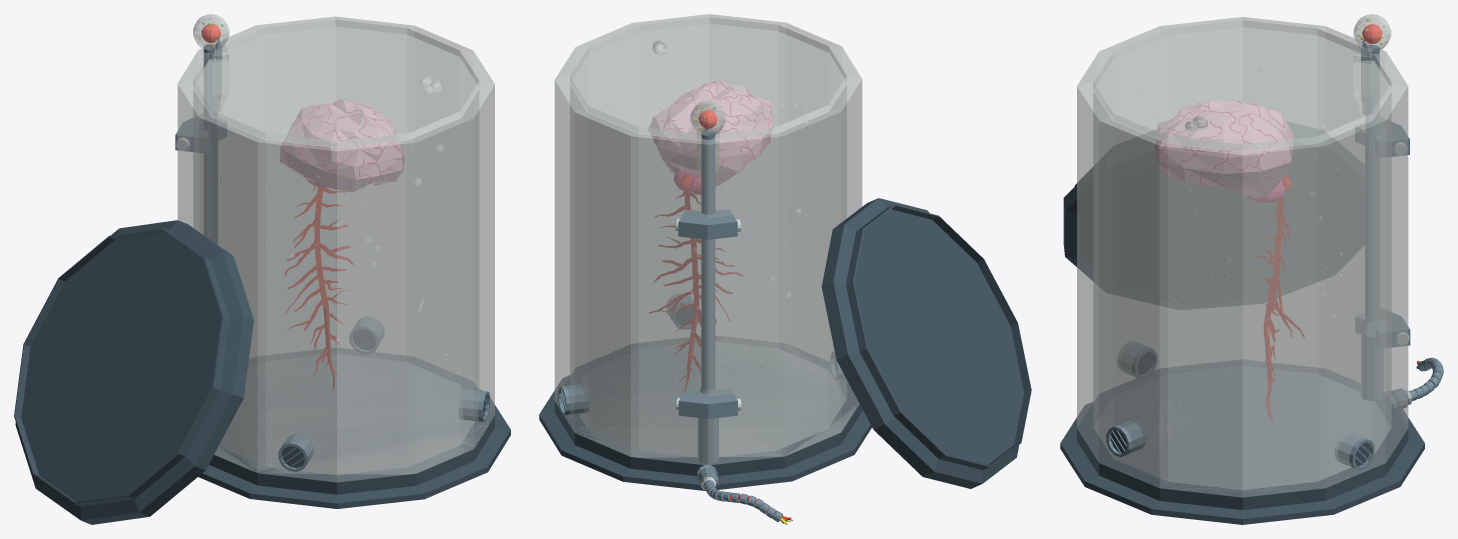
Rendered from Brain.glb.
3 renders of one model, left to right at view 1: azimuth 30°, elevation 25°; view 2: azimuth 150°, elevation 25°; view 3: azimuth 270°, elevation 25°, orthographic. The views are drawn at different scales.
Visible parts, largest first — view 1: Node; view 2: Node; view 3: Node.
Part boxes in pixels (x1,y1,x2,y2): Node: (14,14,510,524); Node: (539,14,1031,524); Node: (1060,14,1443,524).
Size of the model in its own units: 9.23 by 7.74 by 6.62.
